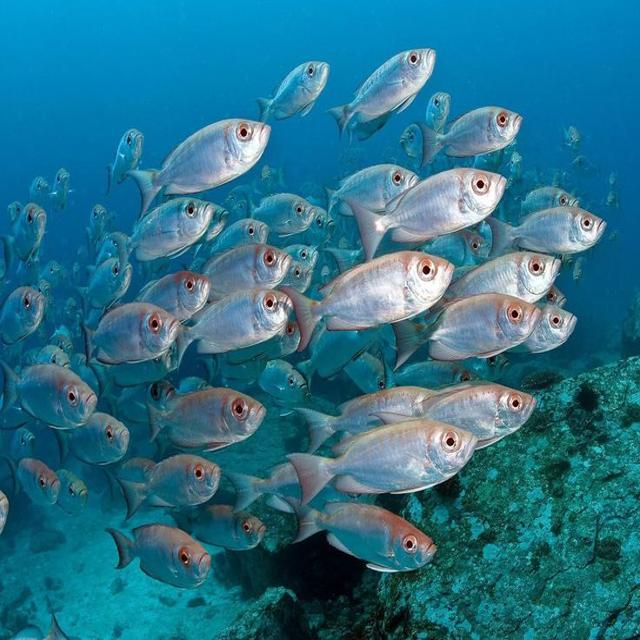fish: (291, 408, 479, 509), (279, 253, 456, 355), (131, 119, 269, 221), (379, 380, 540, 461), (283, 493, 440, 573), (388, 292, 544, 371), (294, 387, 461, 453), (329, 44, 437, 139), (178, 287, 294, 370), (109, 195, 218, 279), (170, 243, 290, 314), (427, 252, 557, 316), (105, 271, 209, 344), (119, 450, 223, 522), (104, 524, 212, 589), (418, 104, 525, 168), (487, 206, 611, 261), (81, 302, 178, 369), (2, 363, 94, 432), (324, 163, 421, 216), (162, 504, 268, 552), (50, 409, 132, 468), (257, 60, 329, 126), (191, 217, 268, 276), (2, 199, 49, 282), (239, 191, 317, 239), (0, 454, 65, 508), (0, 284, 46, 352), (380, 360, 482, 389), (261, 361, 308, 417), (339, 352, 390, 396), (57, 462, 91, 528), (106, 131, 141, 195), (16, 335, 77, 368), (423, 91, 453, 133), (84, 204, 109, 253), (0, 426, 37, 459), (514, 189, 582, 205), (52, 166, 72, 214), (402, 117, 423, 158), (39, 256, 62, 290), (26, 175, 47, 209), (562, 124, 581, 152), (603, 190, 622, 212), (607, 167, 622, 191), (72, 263, 83, 291)
